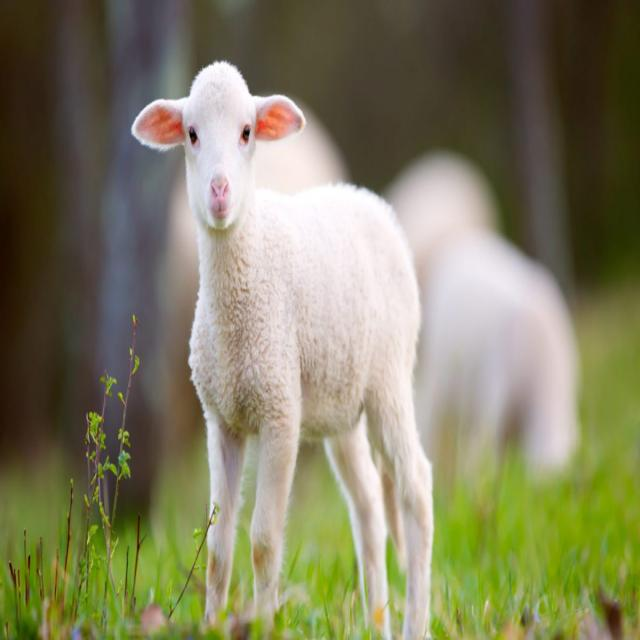Animals: (122, 38, 447, 610)
